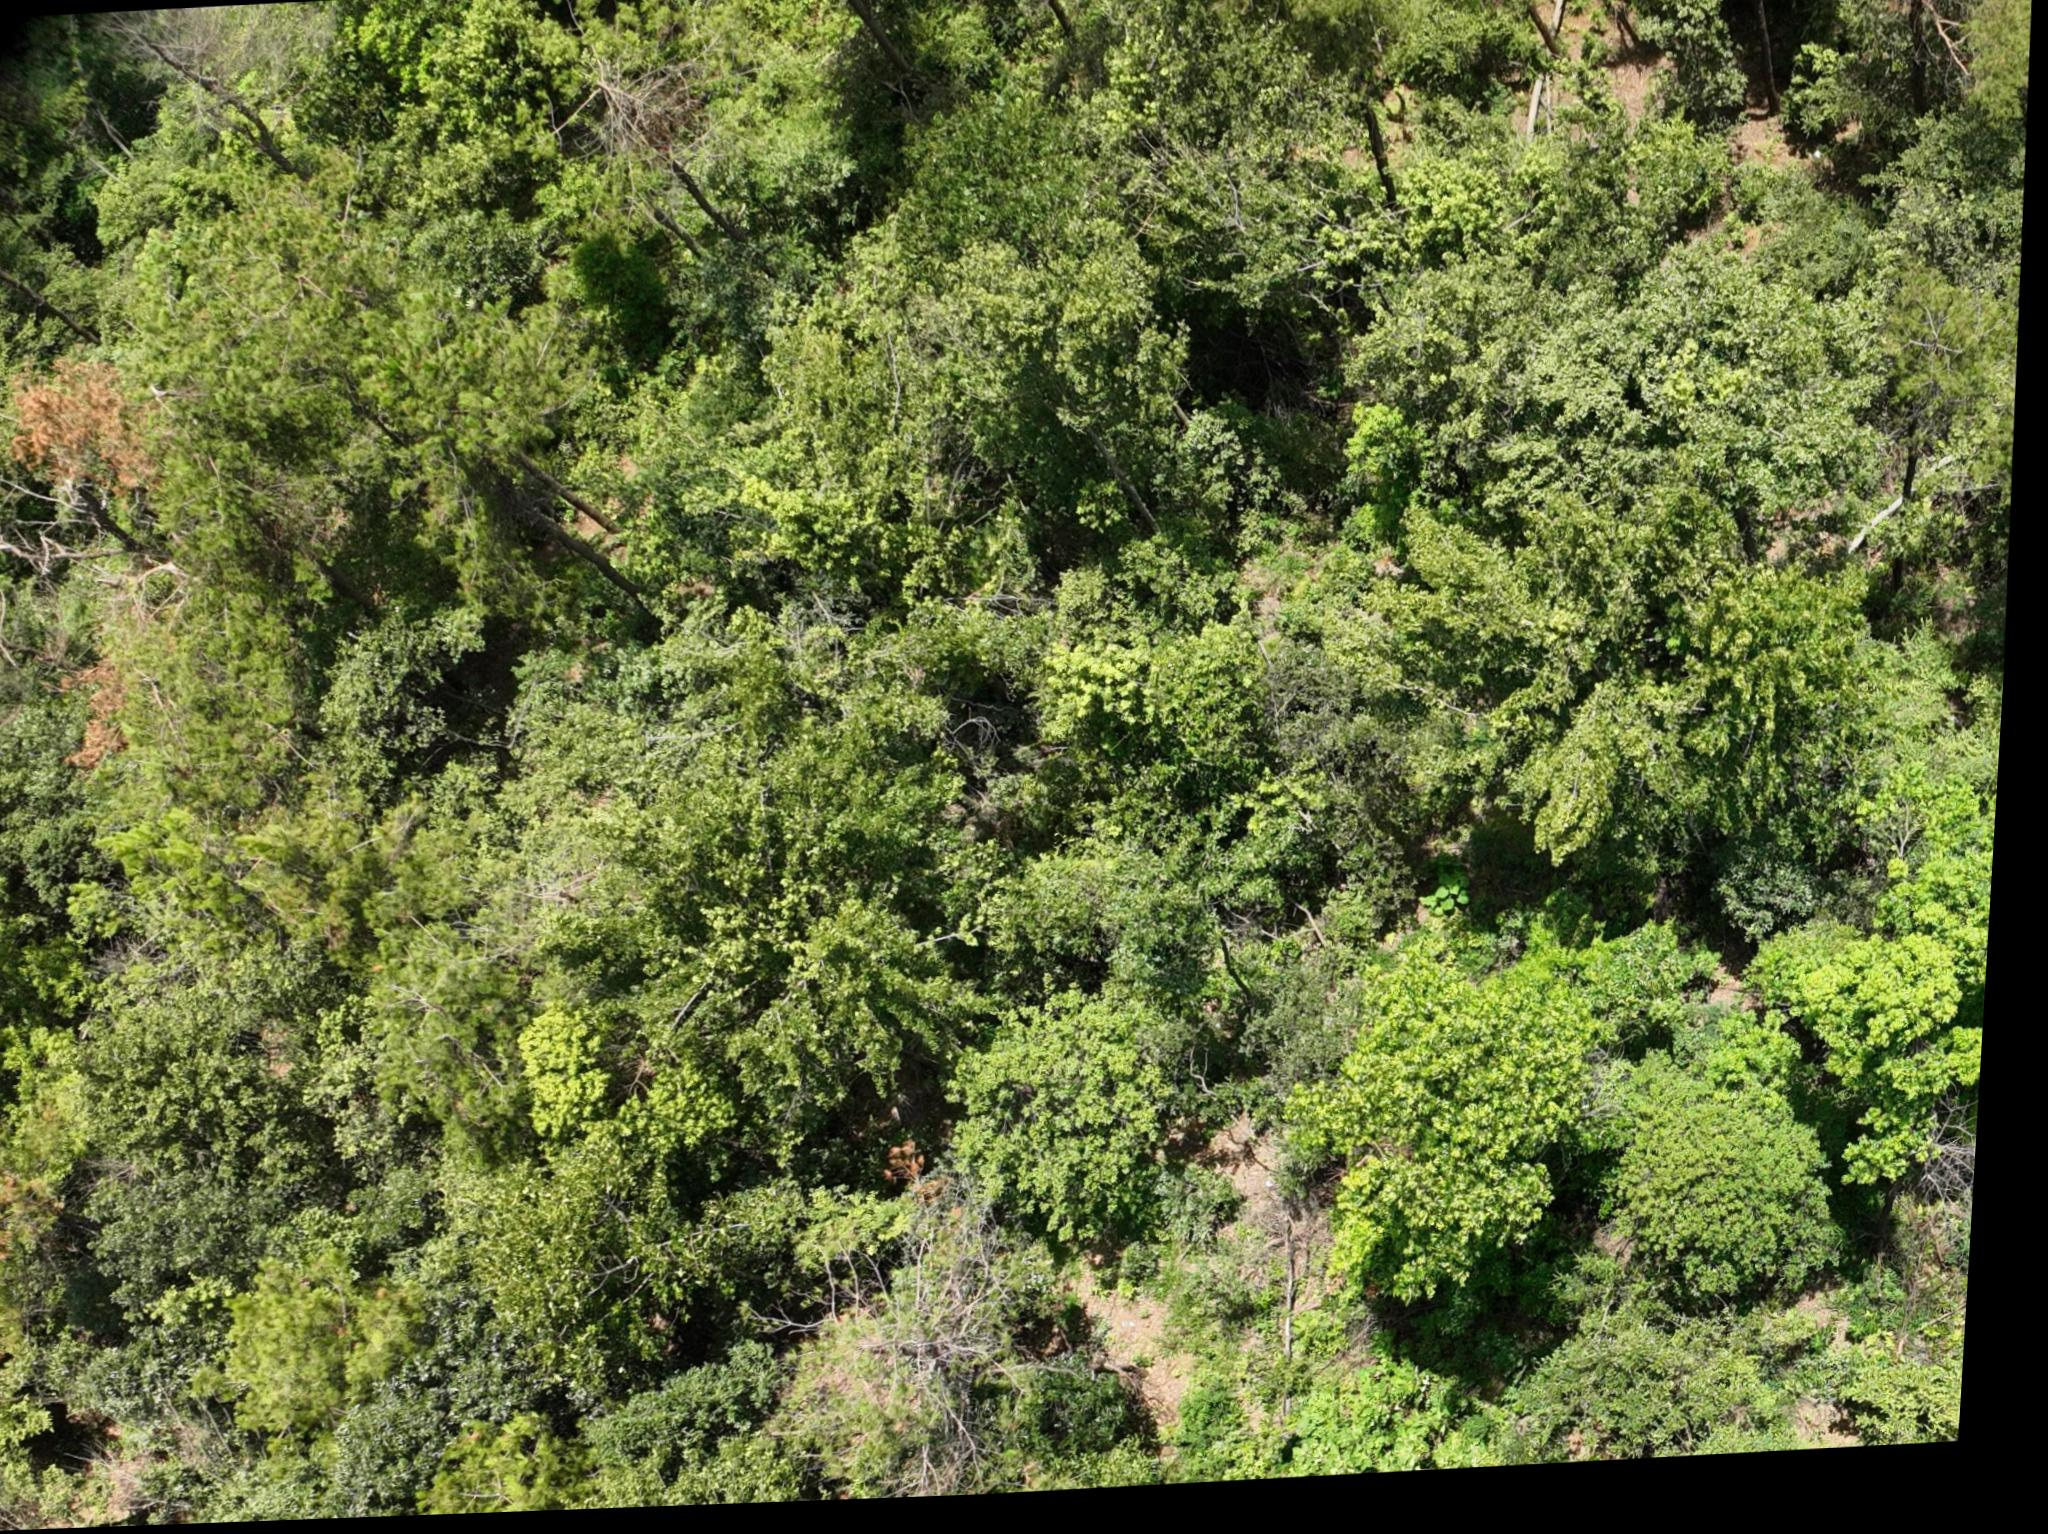heavy: (13, 358, 169, 509)
light: (0, 1112, 82, 1339)
